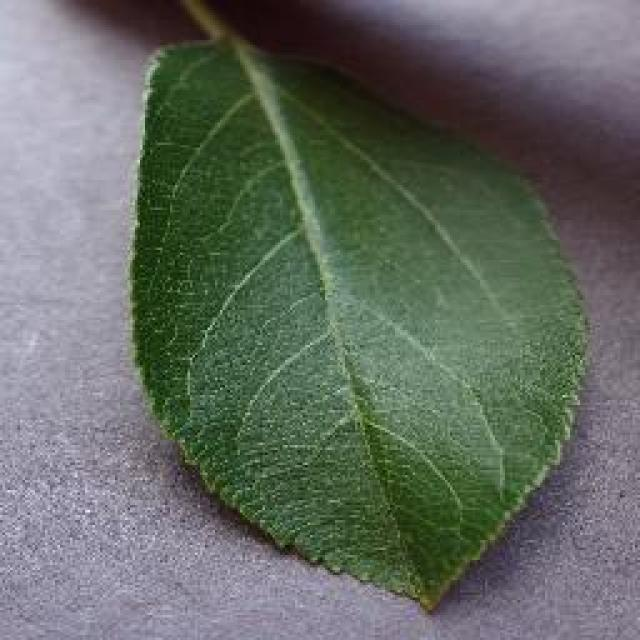Apple___healthy: (127, 31, 594, 618)
